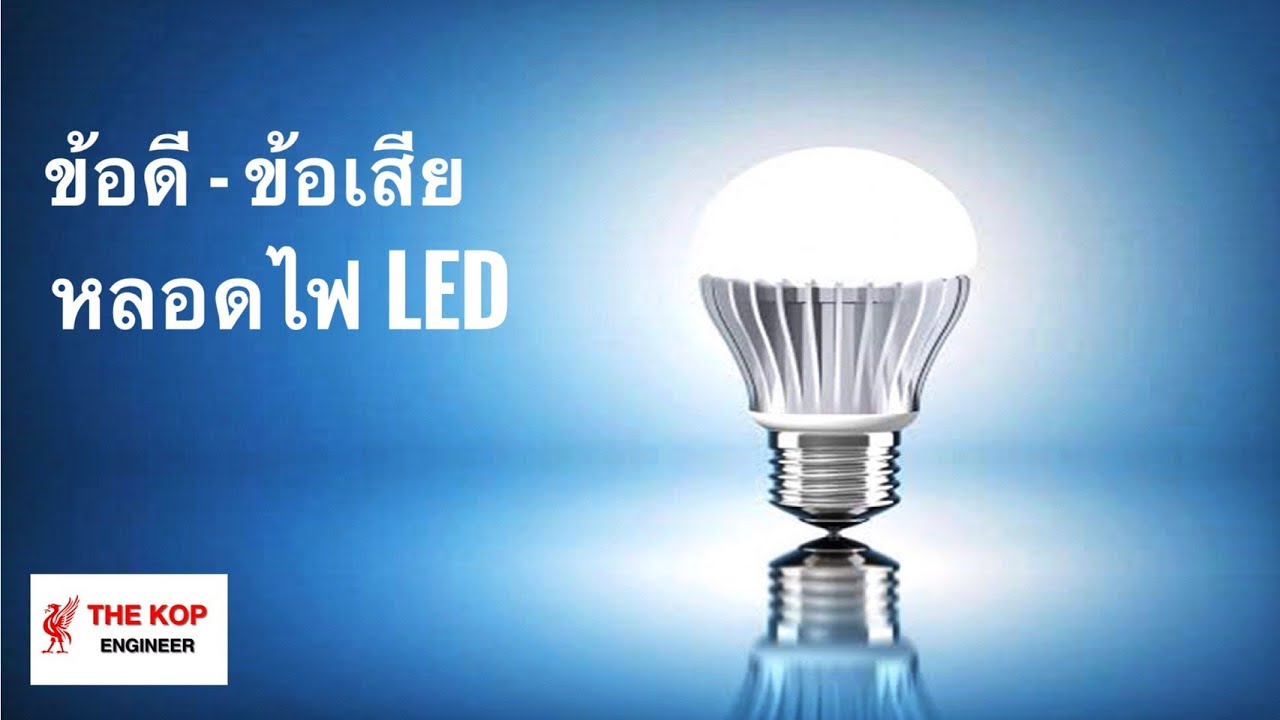Light_bulb: (682, 140, 985, 551)
